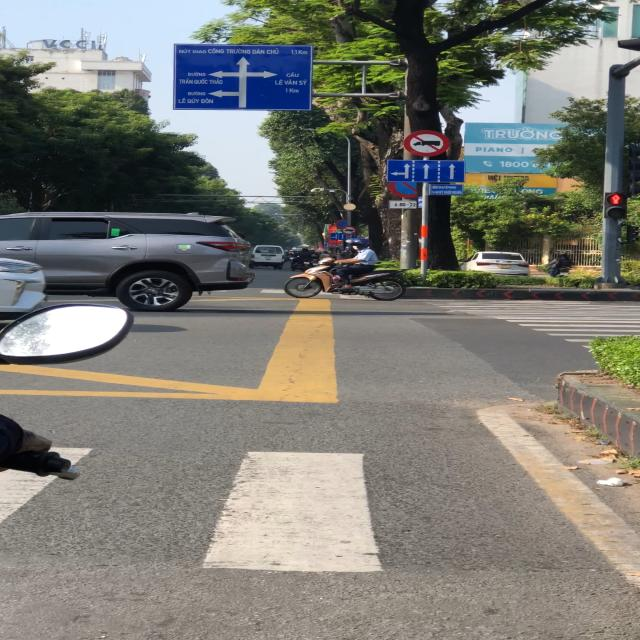Bien bao cam xe so-mi ro-mooc: (403, 126, 452, 158), (338, 225, 360, 236)
